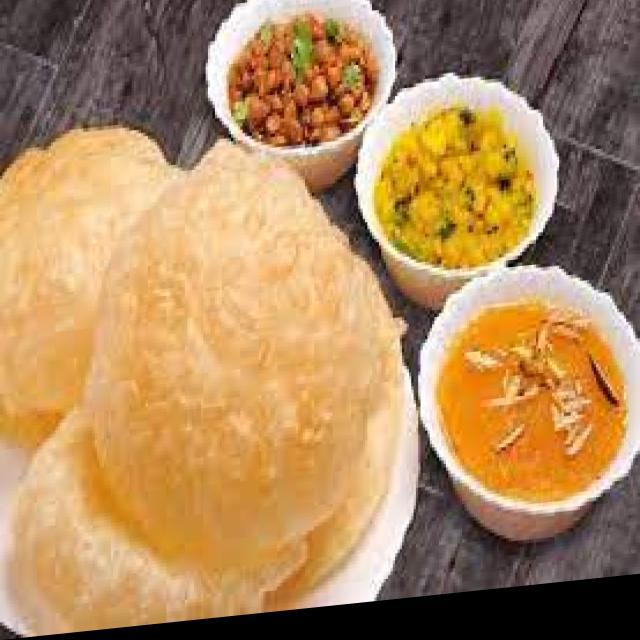Wet: (0, 0, 639, 607)
